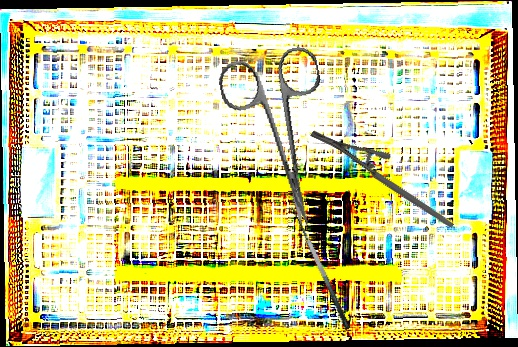Iris Scissors: (215, 44, 350, 238)
Needle Holder: (309, 97, 454, 262)
Spatula Surgical: (281, 203, 352, 335)
